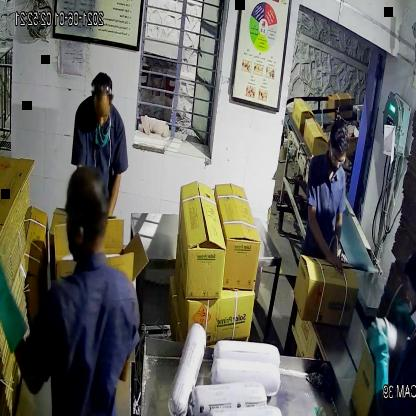goggles: (327, 146, 347, 170)
